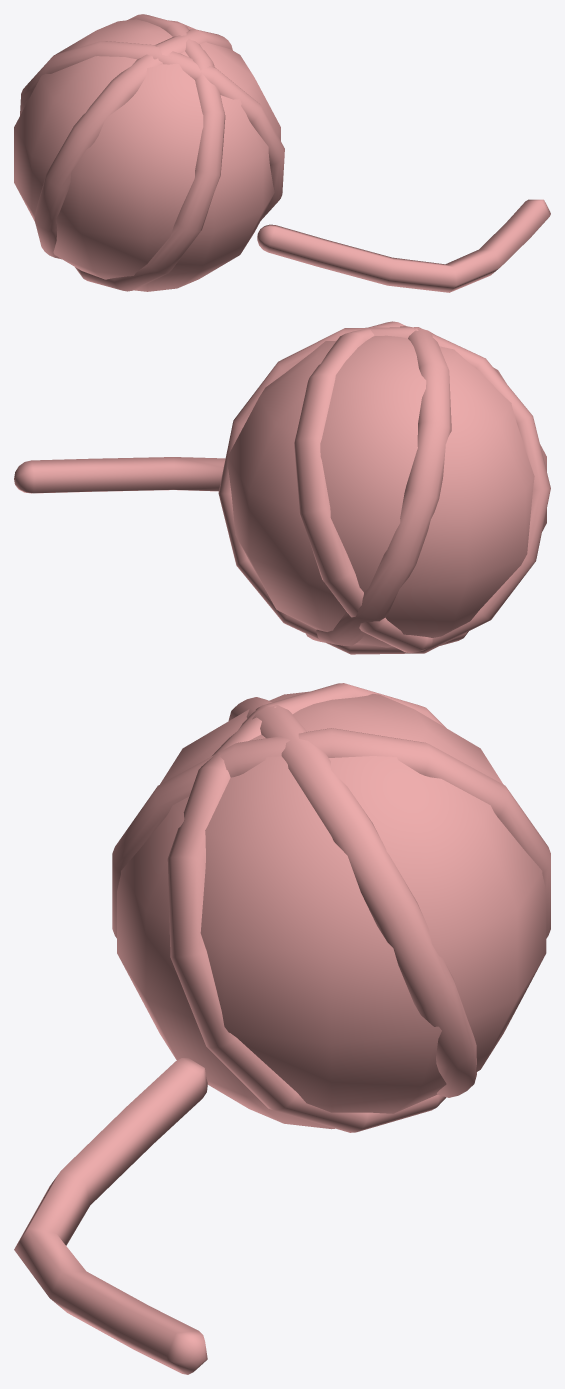
File: petroom_toy_yarn.glb
3 renders of one model, top to bottom at view 1: azimuth 30°, elevation 25°; view 2: azimuth 150°, elevation 25°; view 3: azimuth 270°, elevation 25°, orthographic. The views are drawn at different scales.
Parts seen in each view (by area): view 1: petroom_toy_yarn_mesh; view 2: petroom_toy_yarn_mesh; view 3: petroom_toy_yarn_mesh.
Boxes of the visible parts, bbox=[...] form: petroom_toy_yarn_mesh: bbox=[14, 14, 550, 292]; petroom_toy_yarn_mesh: bbox=[14, 321, 550, 654]; petroom_toy_yarn_mesh: bbox=[14, 683, 550, 1374].
Bounding box in the file's own units: 0.1794 × 0.0902 × 0.1098.
